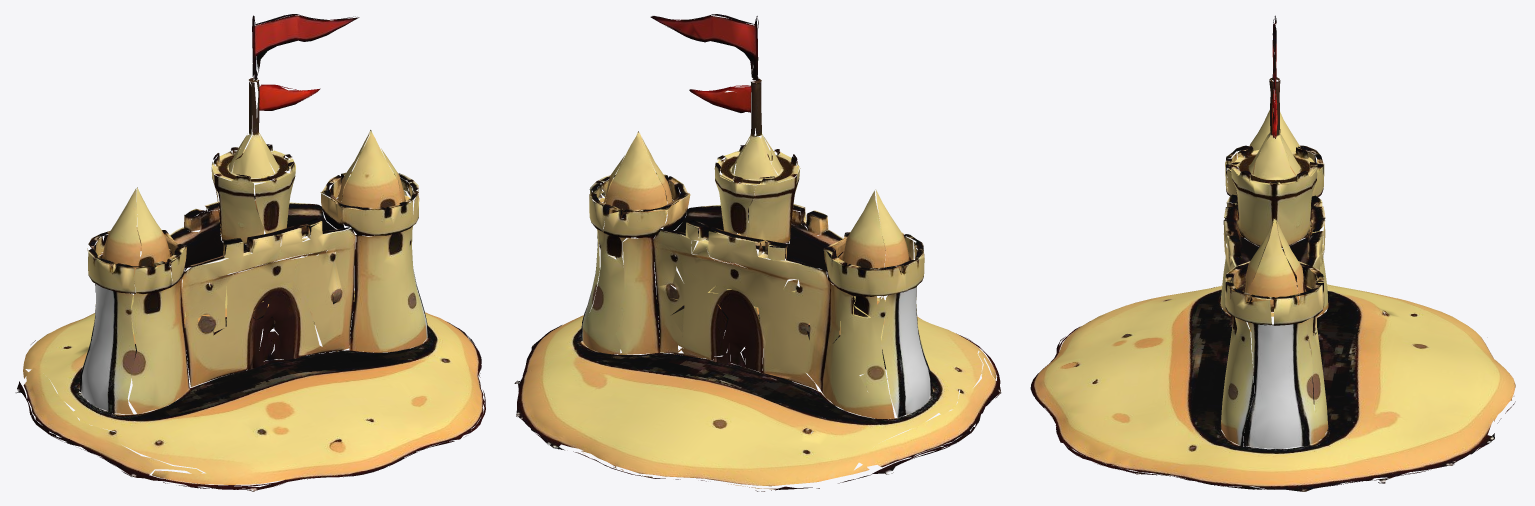
The model's file is kum_kalesi.glb.
3 views of the same model, side by side, from view 1: azimuth 30°, elevation 25°; view 2: azimuth 150°, elevation 25°; view 3: azimuth 270°, elevation 25° (orthographic).
Visible parts, largest first — view 1: geometry_0; view 2: geometry_0; view 3: geometry_0.
Part boxes in pixels (x1,y1,x2,y2): geometry_0: (15,14,485,491); geometry_0: (514,14,1001,491); geometry_0: (1030,15,1515,491).
Size of the model in its own units: 0.9957 by 0.8516 by 0.9938.
1 material, 1 textured.
